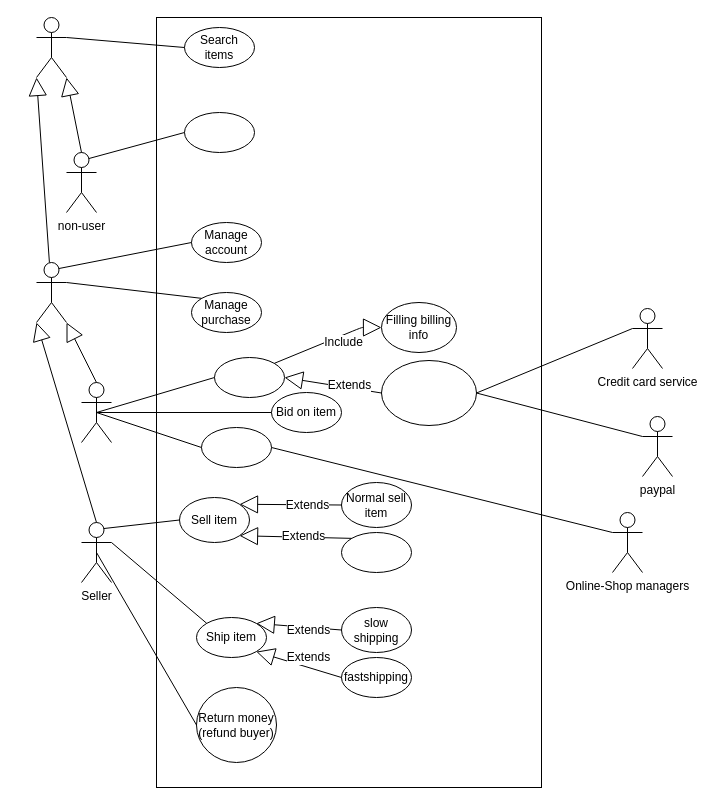
Some shapes in this 715 by 805 pixel diagram are drawn without their labels. The shapes that lost their labels are listed below. From the top down, each one's centre as x and y in pixels, then its label:
pixel 51 47: Generic-user
pixel 219 132: Create Account
pixel 51 292: User
pixel 249 377: Buy item
pixel 428 393: Payment method visa/paypal,,
pixel 96 412: Buyer
pixel 236 447: Ask for refund
pixel 376 552: Start an auction
